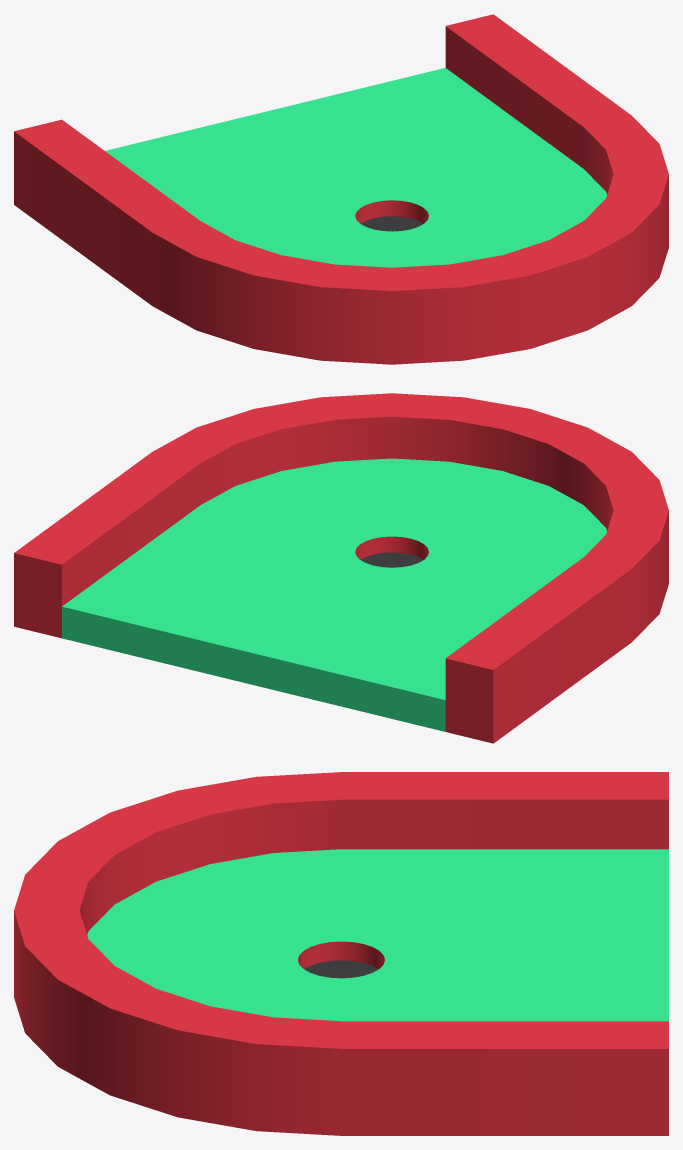
Rendered from holeRound.fbx.
3 views of the same model, one above another, from view 1: azimuth 30°, elevation 25°; view 2: azimuth 150°, elevation 25°; view 3: azimuth 270°, elevation 25° (orthographic). The views are drawn at different scales.
Visible parts, largest first — view 1: holeRound; view 2: holeRound; view 3: holeRound.
Boxes of the visible parts, x1,y1,x2,y2 form: holeRound: (14,14,668,364); holeRound: (14,393,668,743); holeRound: (14,772,668,1135).
Size of the model in its own units: 10 by 1.47 by 10.
